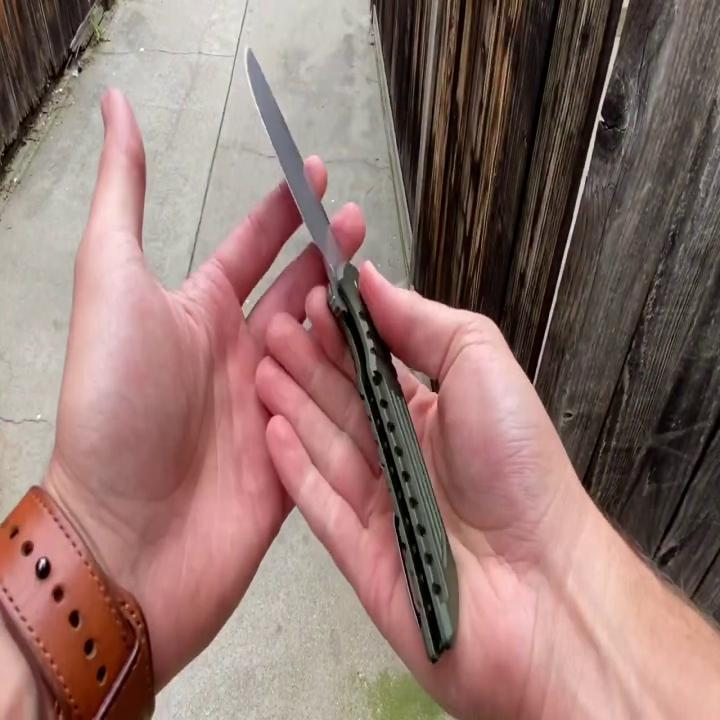knife: (242, 42, 464, 668)
